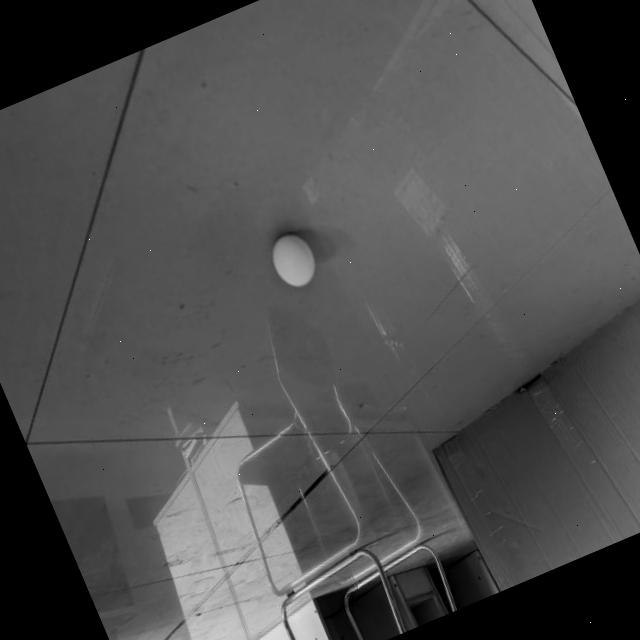ping-pong-ball: (258, 222, 324, 298)
